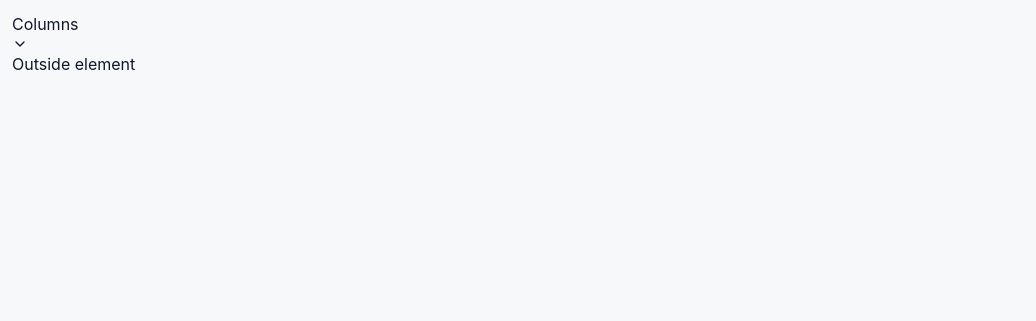
it: ColumnChooser › menu interaction › closes menu when clicking outside
Click the button "Columns" at [45, 32], box 12,12 -> 78,52
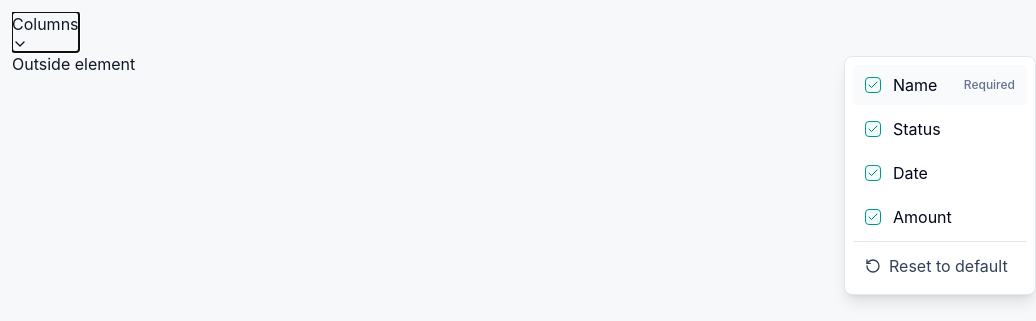
Press the mouse on the text with test id "outside" at [74, 64], box 12,54 -> 135,74
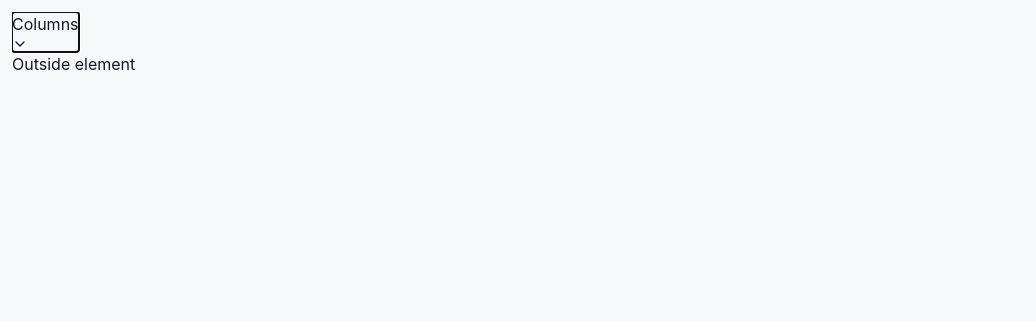
Check: the menu is gone
